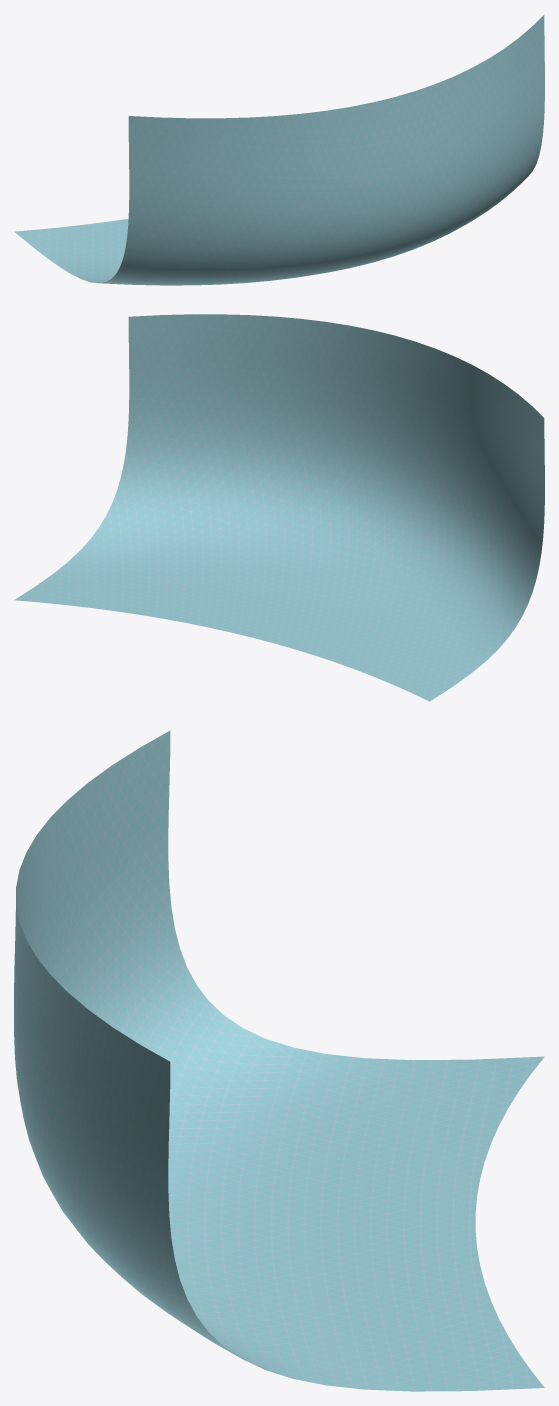
File: pref_sm_choujiangjiemian_bj03_lv3.fbx
3 renders of one model, top to bottom at view 1: azimuth 30°, elevation 25°; view 2: azimuth 150°, elevation 25°; view 3: azimuth 270°, elevation 25°, orthographic. The views are drawn at different scales.
Visible parts, largest first — view 1: pref_sm_choujiangjiemian_bj03_lv3; view 2: pref_sm_choujiangjiemian_bj03_lv3; view 3: pref_sm_choujiangjiemian_bj03_lv3.
Part boxes in pixels (box(x1,y1,x2,y2)): pref_sm_choujiangjiemian_bj03_lv3: box(14, 15, 544, 285); pref_sm_choujiangjiemian_bj03_lv3: box(14, 314, 544, 701); pref_sm_choujiangjiemian_bj03_lv3: box(14, 731, 544, 1391).
Bounding box in the file's own units: 241 × 112 × 163.
